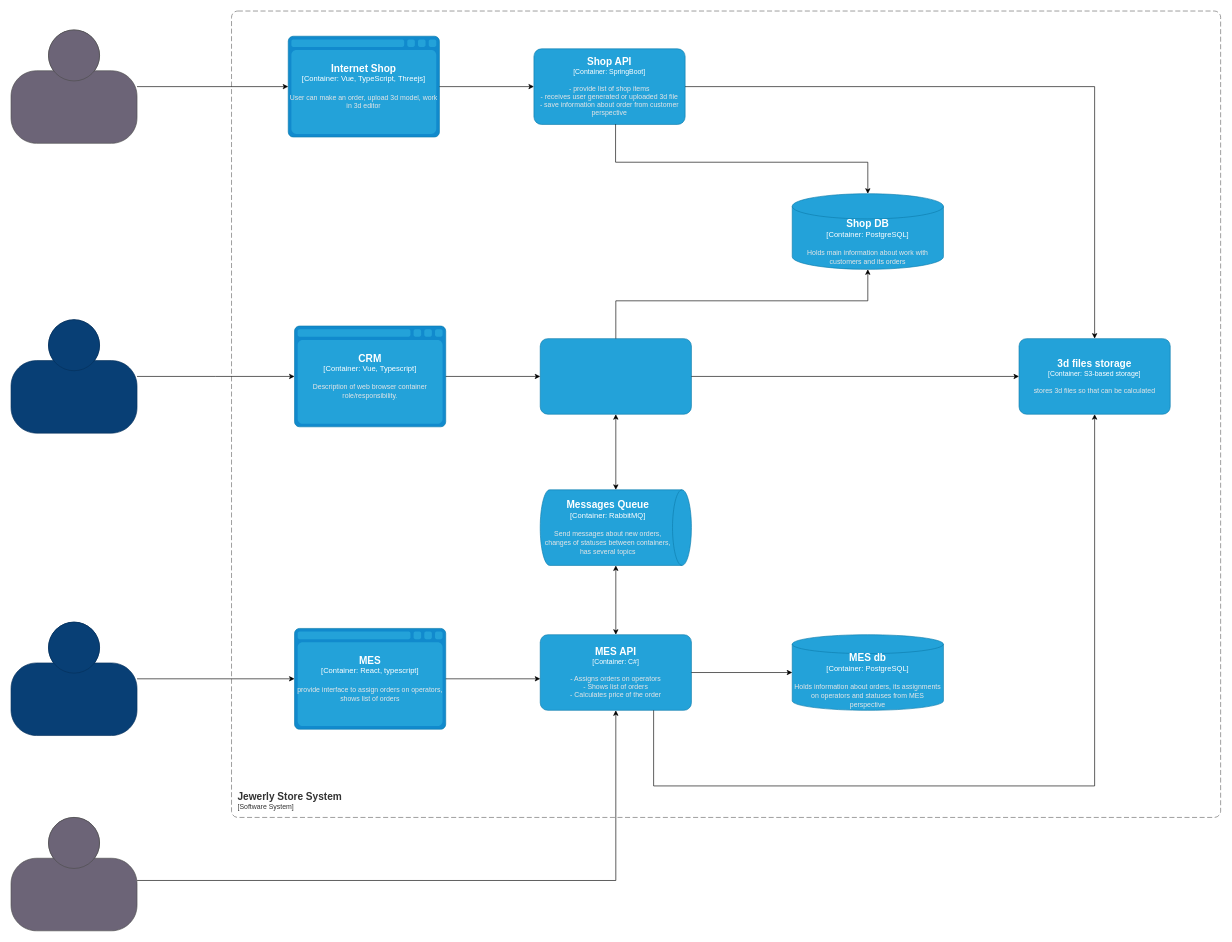
This 1232x942 diagram has some shape labels left out. Each missing label, with the centre of its shape:
"API user [Person] Description of external person." goes at (x=73, y=874).
"CRM API [Container: SpringBoot] Description of container role/responsibility." goes at (x=615, y=376).
"Customer [Person] Description of external person." goes at (x=73, y=86).
"Operator [Person] Takes order in work, manufactures jewerly" goes at (x=73, y=678).
"Seller [Person] Operates with order, confirms manufacturing for the user" goes at (x=73, y=376).
